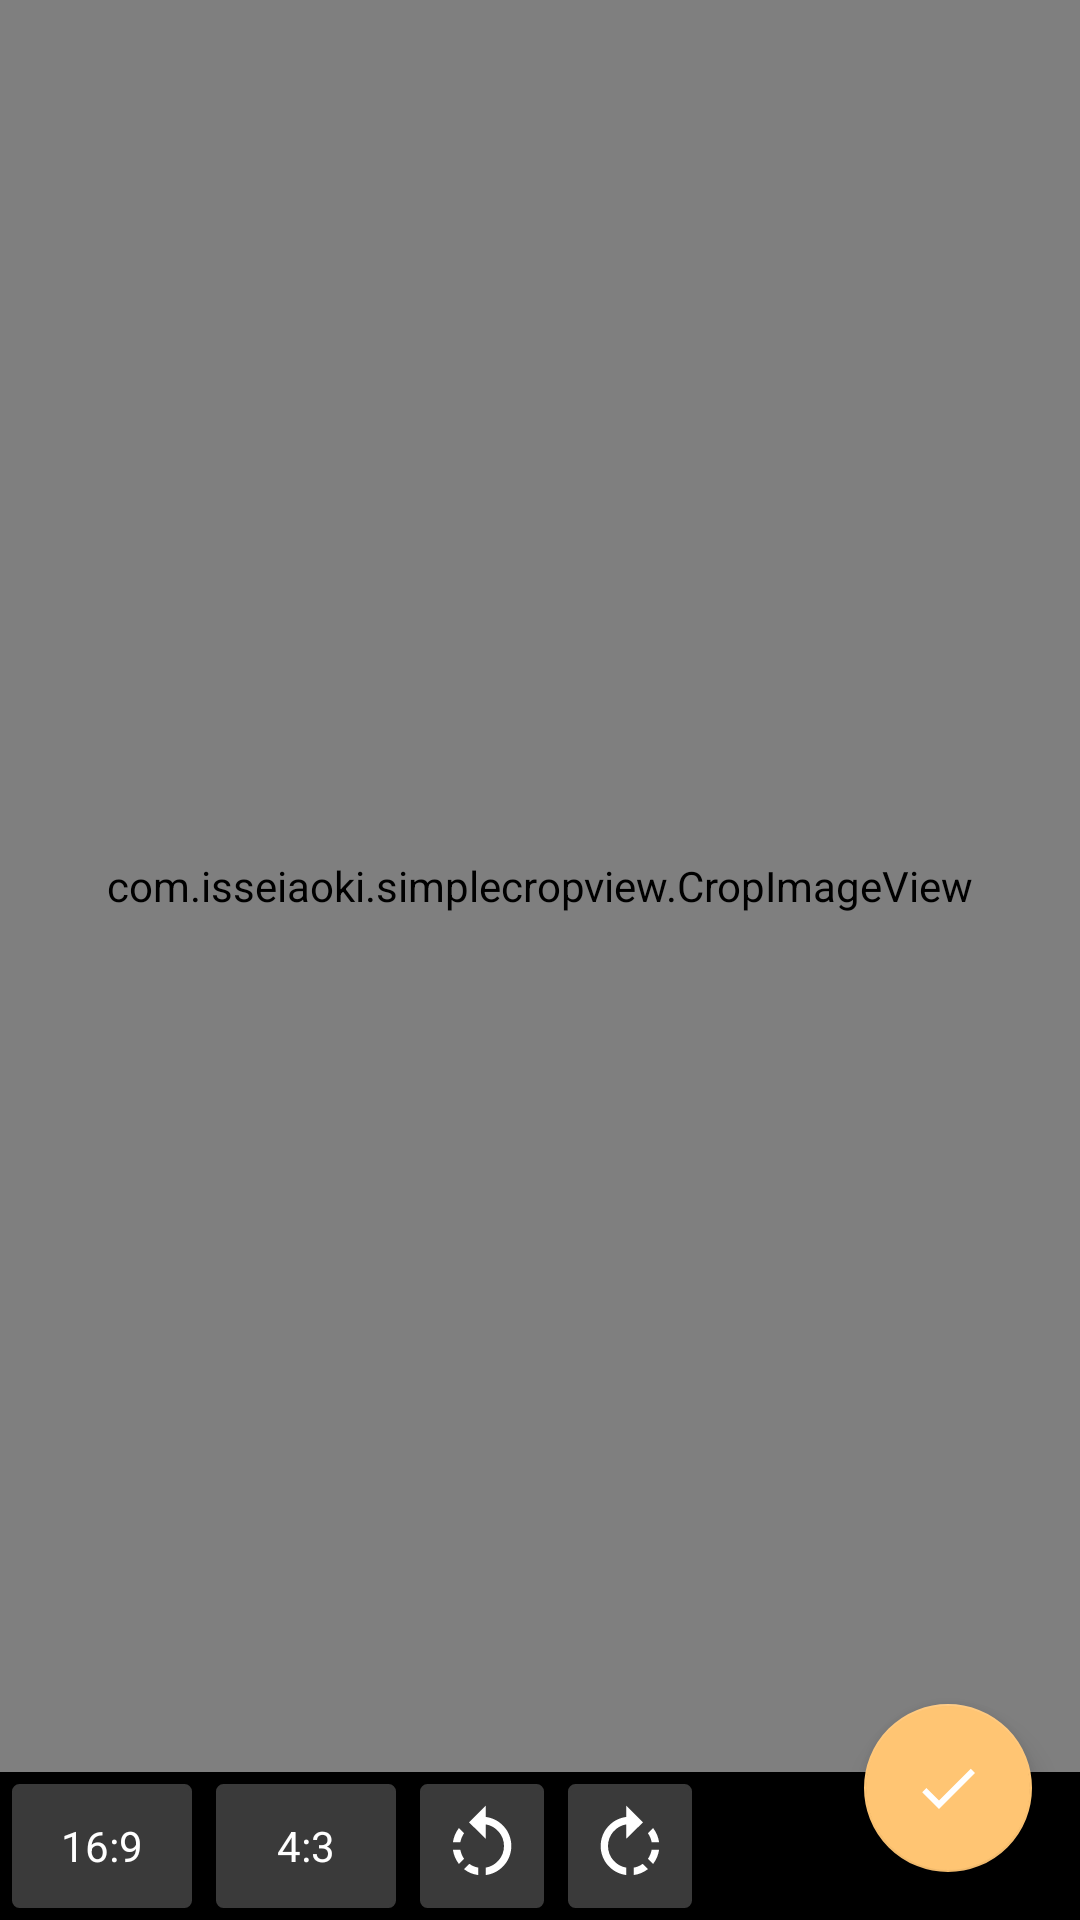

Point at icon controls on the screen. Image size 1080px×1920px, points as (x=x, y=y).
done: (x=948, y=1788)
rotate left: (x=482, y=1846)
rotate right: (x=630, y=1846)
